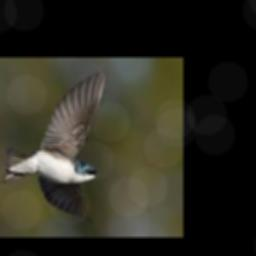Swallow: (2, 68, 108, 222)
